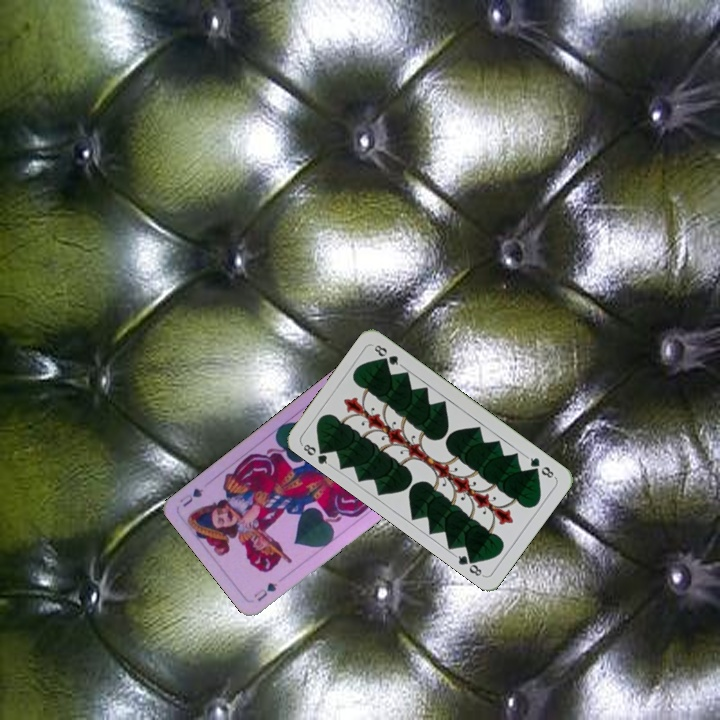G8: (298, 439, 333, 469), (523, 452, 558, 481)
GU: (250, 578, 280, 604)
